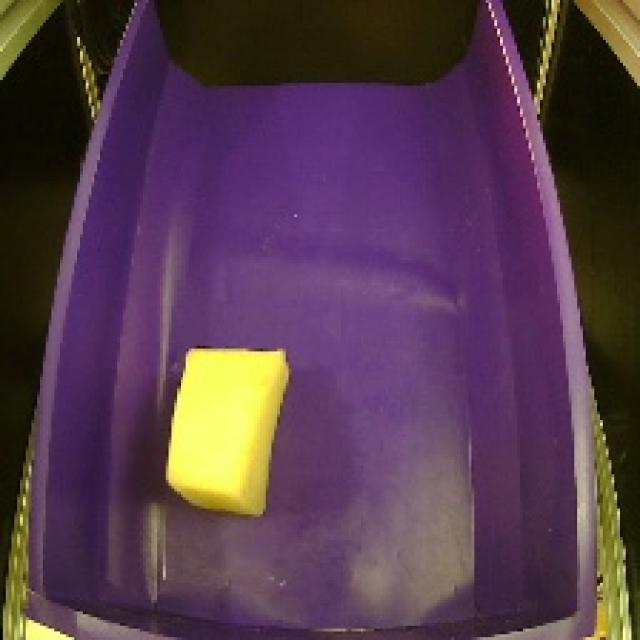potato: (149, 335, 302, 516)
